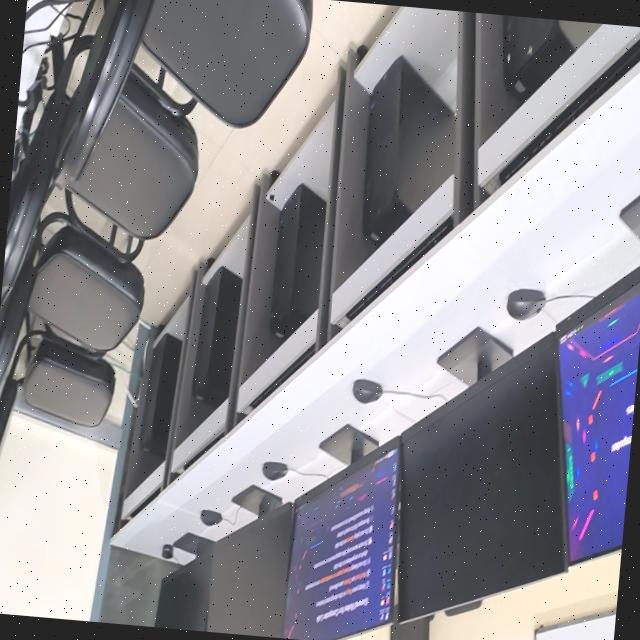Chair: (1, 64, 198, 301), (61, 0, 312, 180), (0, 193, 144, 388), (0, 327, 115, 449), (390, 616, 433, 640)
Cpu: (362, 57, 455, 246), (175, 252, 242, 447), (270, 185, 326, 341), (141, 333, 181, 452), (504, 15, 556, 77)
Monitor: (394, 333, 568, 623), (555, 266, 640, 565), (283, 438, 401, 640), (206, 503, 292, 638), (153, 543, 213, 631), (341, 519, 346, 525)
Mouse: (506, 289, 546, 320), (352, 379, 383, 403), (263, 462, 287, 480), (143, 402, 154, 438), (200, 509, 222, 526), (156, 407, 169, 429), (162, 545, 172, 559)
